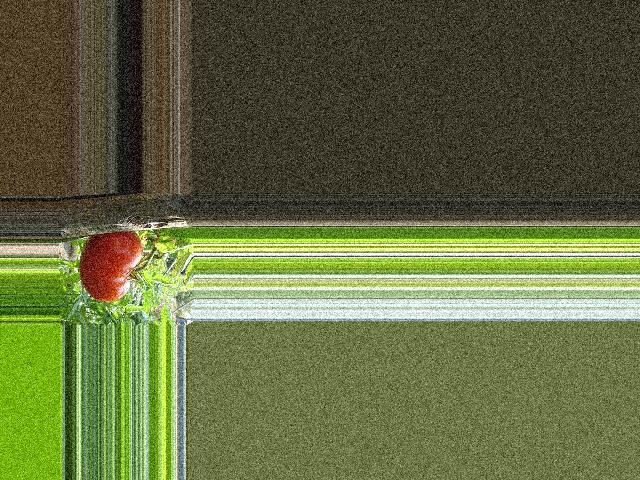tomato: (80, 230, 143, 302)
